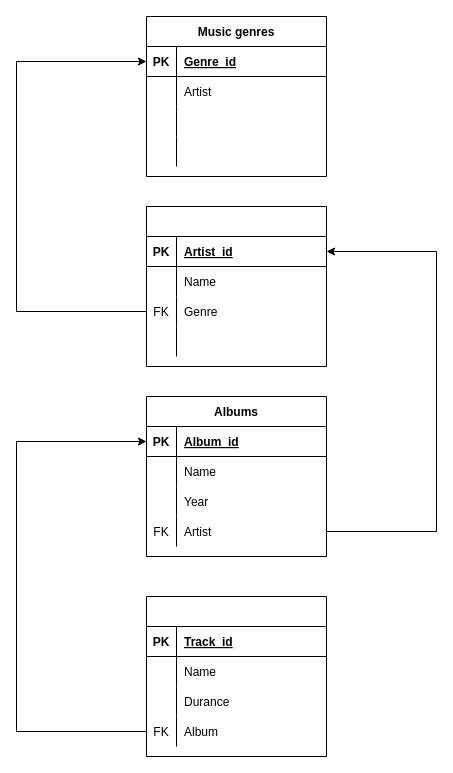
Image size: 453x773. Some labels were removed from this diagram. The box of each missing label's shape, as (x1, y1, x2, y2) in pixels:
Artists: (146, 206, 326, 366)
Tracks: (146, 596, 326, 756)
